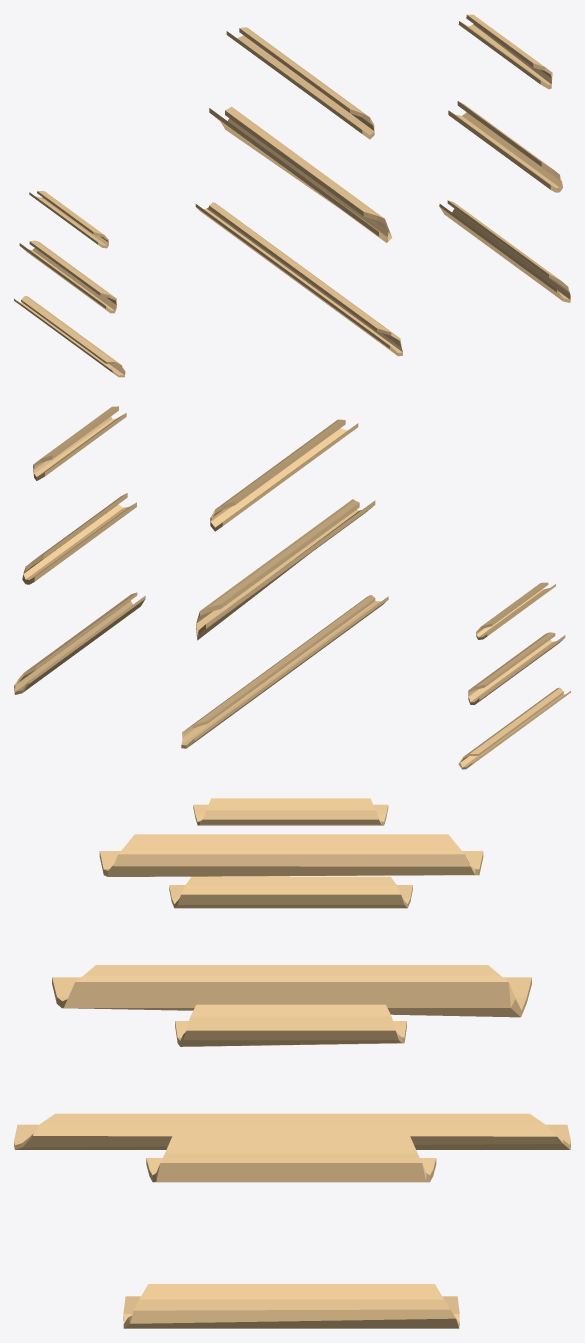
Rendered from SailsEmpty.fbx.
3 views of the same model, one above another, from view 1: azimuth 30°, elevation 25°; view 2: azimuth 150°, elevation 25°; view 3: azimuth 270°, elevation 25° (orthographic). The views are drawn at different scales.
Parts seen in each view (by area): view 1: Sail Empty Mid 2, Sail Empty Mid 3, Sail Empty Mid 1, Sail Empty Front 3, Sail Empty Front 2, Sail Empty Front 1, Sail Empty Back 2, Sail Empty Back 3, Sail Empty Back 1; view 2: Sail Empty Mid 2, Sail Empty Mid 3, Sail Empty Mid 1, Sail Empty Front 3, Sail Empty Front 2, Sail Empty Front 1, Sail Empty Back 2, Sail Empty Back 3, Sail Empty Back 1; view 3: Sail Empty Mid 2, Sail Empty Mid 3, Sail Empty Mid 1, Sail Empty Front 3, Sail Empty Front 2, Sail Empty Front 1, Sail Empty Back 2, Sail Empty Back 1.
Part boxes in pixels (x1,y1,x2,y2): Sail Empty Mid 2: (209,107,391,242); Sail Empty Mid 3: (195,202,402,356); Sail Empty Mid 1: (226,27,374,139); Sail Empty Front 3: (439,200,570,302); Sail Empty Front 2: (448,101,562,192); Sail Empty Front 1: (458,14,552,89); Sail Empty Back 2: (19,240,116,313); Sail Empty Back 3: (14,296,125,377); Sail Empty Back 1: (29,191,108,248); Sail Empty Mid 2: (196,499,375,640); Sail Empty Mid 3: (181,595,388,748); Sail Empty Mid 1: (210,419,358,531); Sail Empty Front 3: (14,592,145,694); Sail Empty Front 2: (22,493,136,584); Sail Empty Front 1: (33,406,126,480); Sail Empty Back 2: (468,632,565,704); Sail Empty Back 3: (458,687,570,769); Sail Empty Back 1: (476,582,555,639); Sail Empty Mid 2: (52,965,531,1017); Sail Empty Mid 3: (14,1113,570,1149); Sail Empty Mid 1: (99,834,483,876); Sail Empty Front 3: (123,1284,459,1328); Sail Empty Front 2: (146,1135,436,1182); Sail Empty Front 1: (175,1004,406,1046); Sail Empty Back 2: (169,876,412,908); Sail Empty Back 1: (193,798,388,825).
Bounding box in the file's own units: 8166 × 10849 × 5583.
